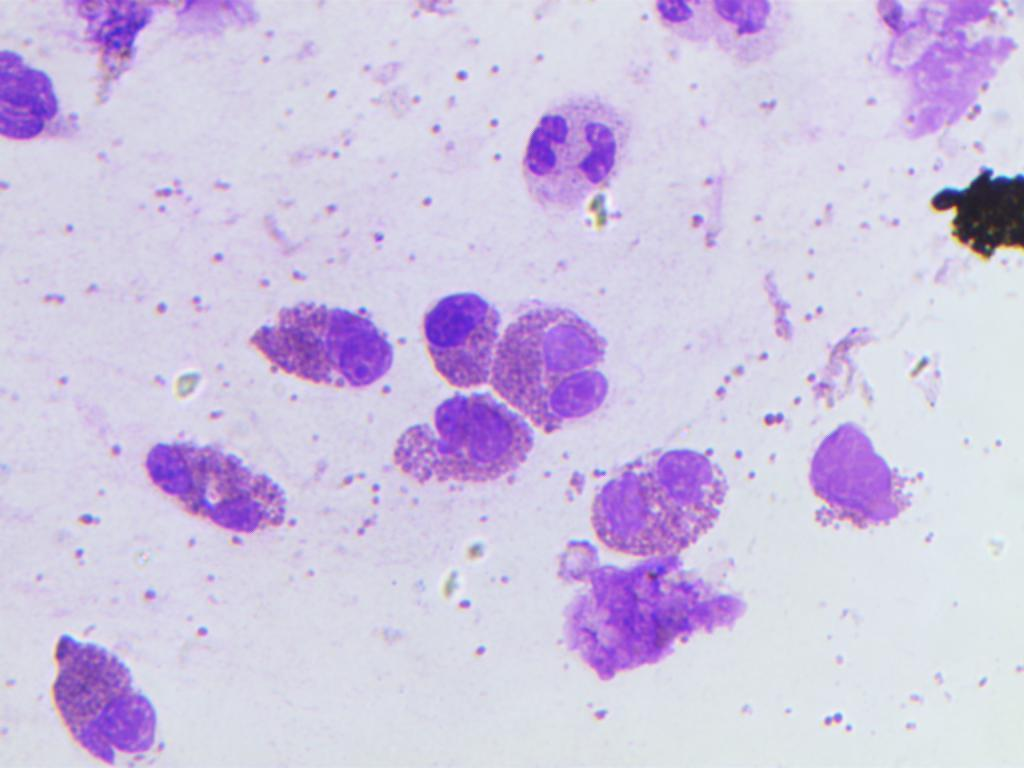artifact: (548, 559, 758, 682), (49, 0, 251, 111), (864, 0, 1013, 150), (904, 157, 1024, 279)
eosinophil: (199, 294, 397, 410), (117, 437, 315, 553), (792, 383, 926, 539), (490, 279, 619, 436), (21, 631, 168, 763), (588, 434, 728, 561), (387, 386, 537, 498), (408, 259, 498, 393), (0, 31, 99, 147)
neutrophil: (508, 92, 638, 219), (634, 0, 793, 61)
